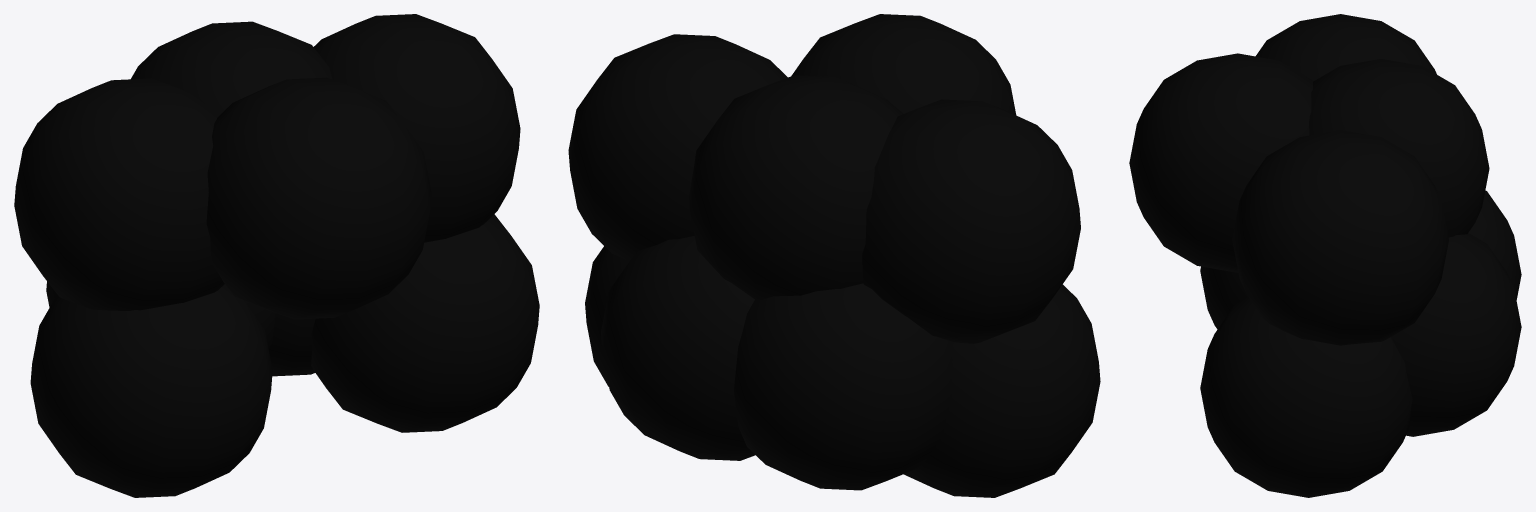
The model's file is Hair_16.fbx.
3 renders of one model, left to right at view 1: azimuth 30°, elevation 25°; view 2: azimuth 150°, elevation 25°; view 3: azimuth 270°, elevation 25°, orthographic. The views are drawn at different scales.
Parts seen in each view (by area): view 1: Hair_16; view 2: Hair_16; view 3: Hair_16.
Part boxes in pixels (x1,y1,x2,y2): Hair_16: (14,14,539,497); Hair_16: (568,14,1100,497); Hair_16: (1129,14,1521,497).
Bounding box in the file's own units: 144 × 115 × 114.
